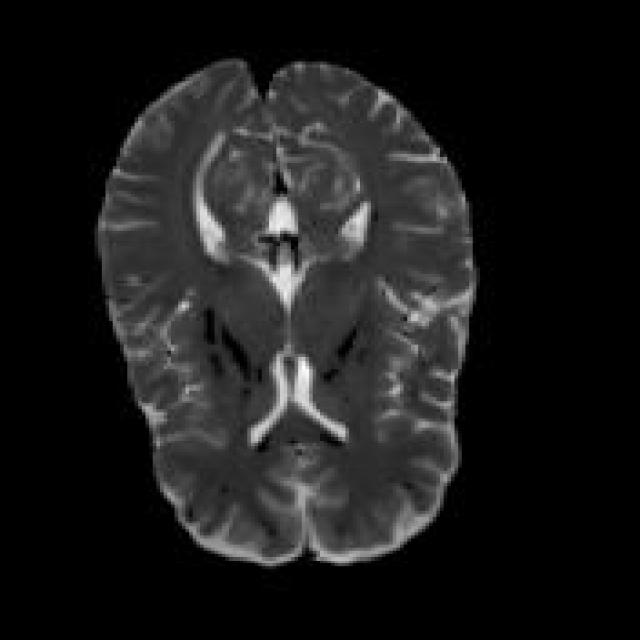parkinson: (91, 56, 476, 566)
